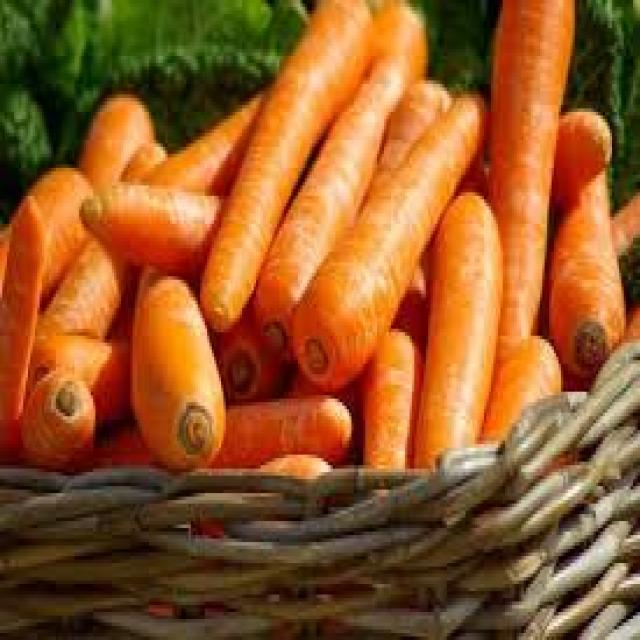Fresh_Carrot: (255, 58, 479, 392), (201, 2, 371, 332), (483, 0, 573, 439), (0, 167, 93, 450), (131, 272, 226, 470), (80, 182, 221, 275)
